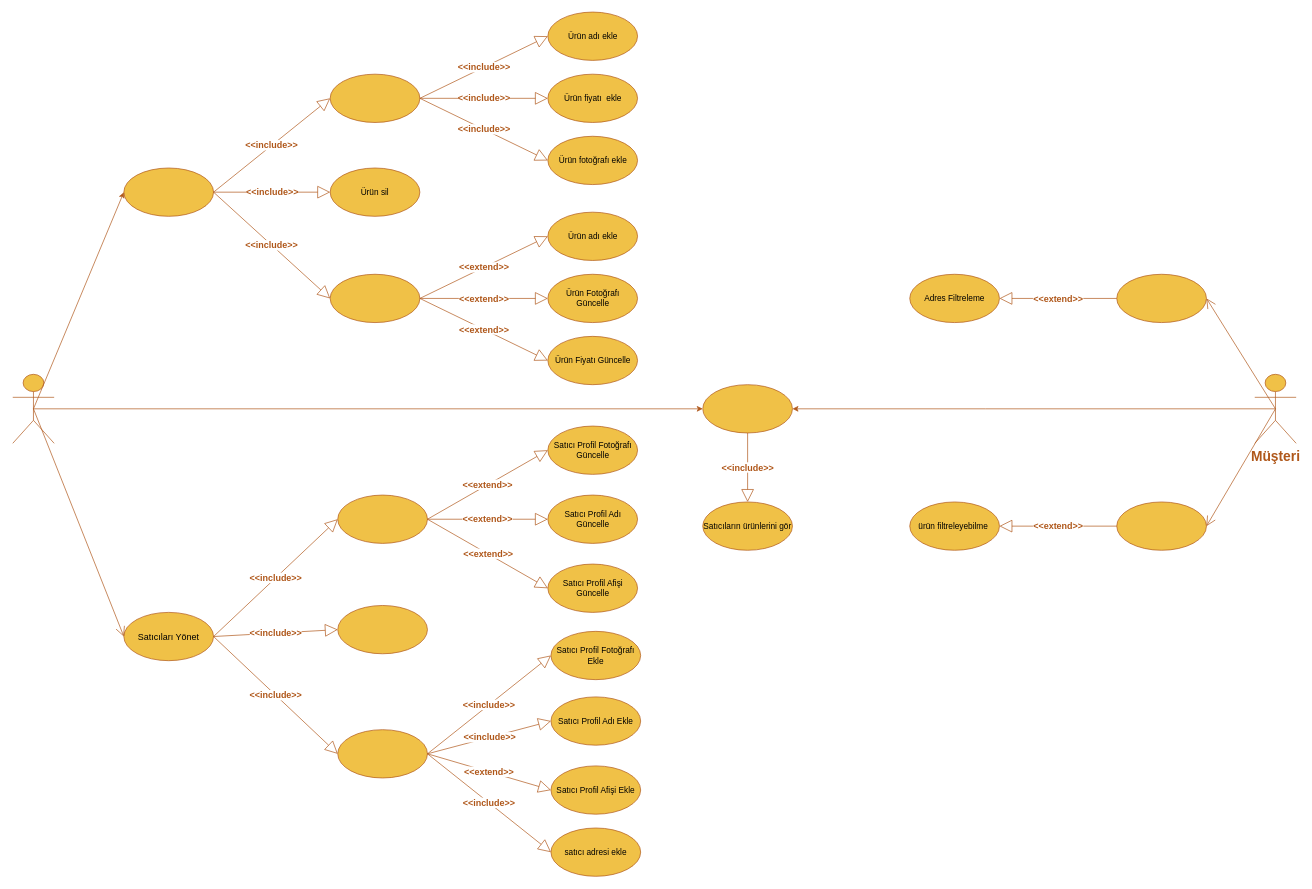
The diagram is 1312 pixels wide and 889 high, and some of its shapes have lost their labels. Each missing label, with the box of its shape:
Admin: (12, 374, 54, 443)
Harita üzerinde satıcıları görebilme: (1116, 274, 1206, 323)
Satıcı Profili Ekle: (337, 729, 427, 778)
Satıcı Profili Güncelle: (337, 494, 427, 543)
Satıcı Profili Sil: (337, 605, 427, 654)
Satıcıları türünü seçebileme: (1116, 501, 1206, 550)
Satıcıların profiilerini gör: (702, 384, 792, 433)
Ürün Ekle: (329, 73, 420, 122)
Ürün Güncelle: (329, 274, 420, 323)
Ürünleri Yönet: (123, 167, 214, 216)
